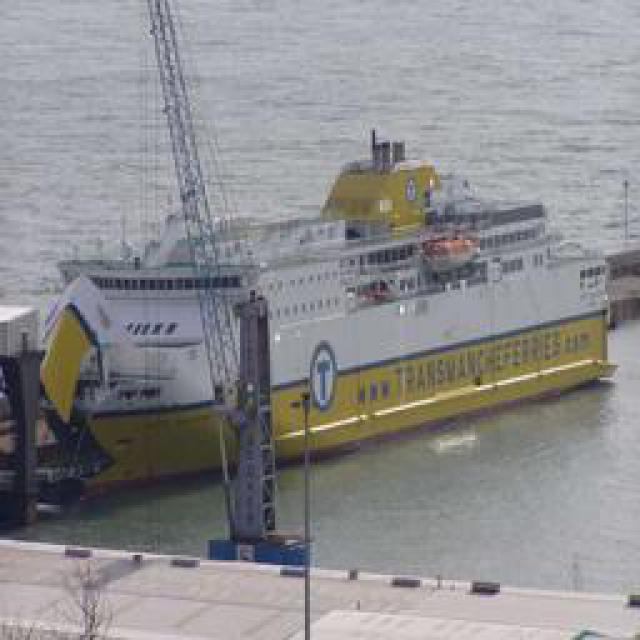Ship: (25, 90, 620, 520)
